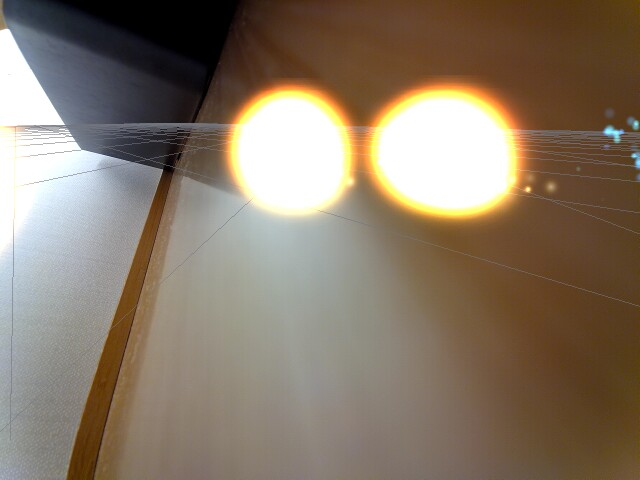firebig: (370, 79, 527, 224)
